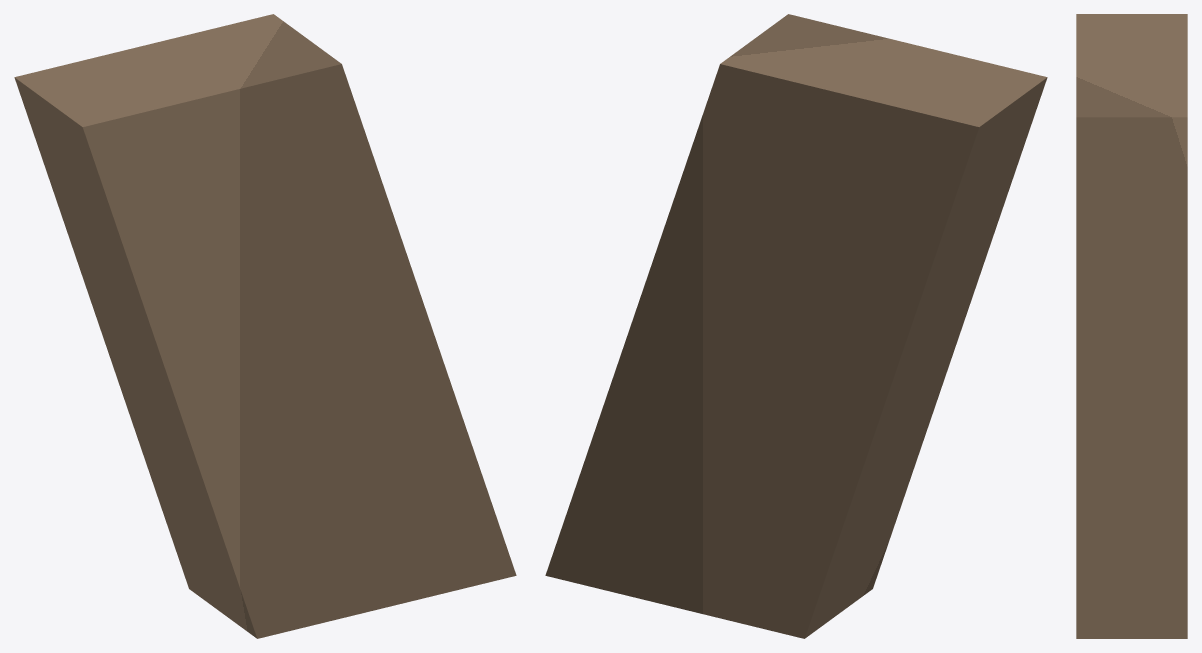
Rendered from grip.glb.
3 views of the same model, side by side, from view 1: azimuth 30°, elevation 25°; view 2: azimuth 150°, elevation 25°; view 3: azimuth 270°, elevation 25° (orthographic). The views are drawn at different scales.
Bounding box in the file's own units: 0.077 × 0.094 × 0.021.
Materials: 1 (1 with a texture image).
